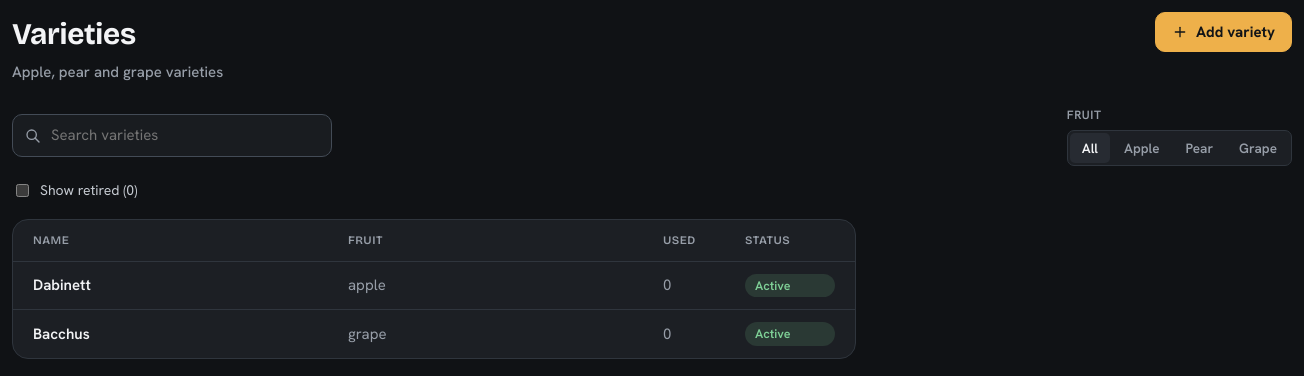
Scenario: ManagementList › filters by the category (fruit) chips
Check: the text "Dabinett" is shown, box [33,275,91,295]
Click the button "Grape".
click(1258, 148)  # box [1227,132,1289,162]
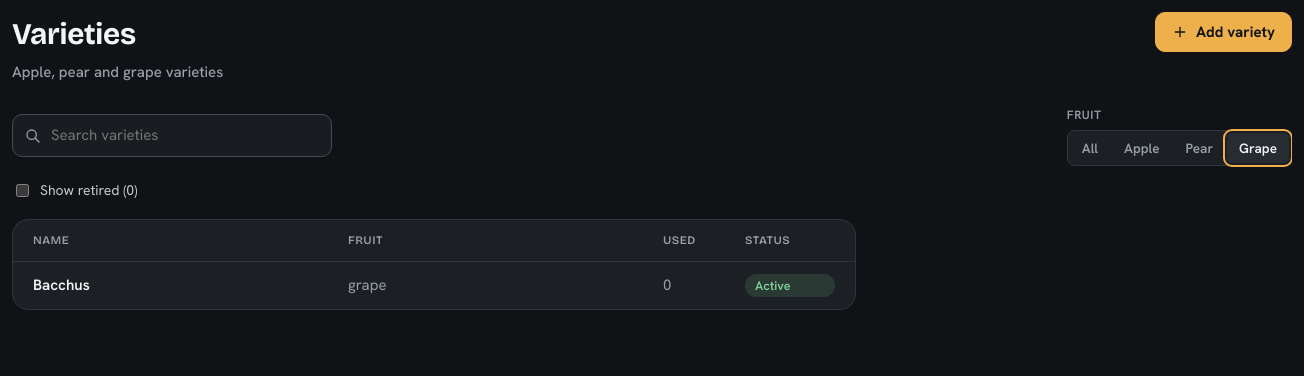
Check: the text "Bacchus" is shown, box [33,275,90,295]
Check: the button "Dabinett" is gone
